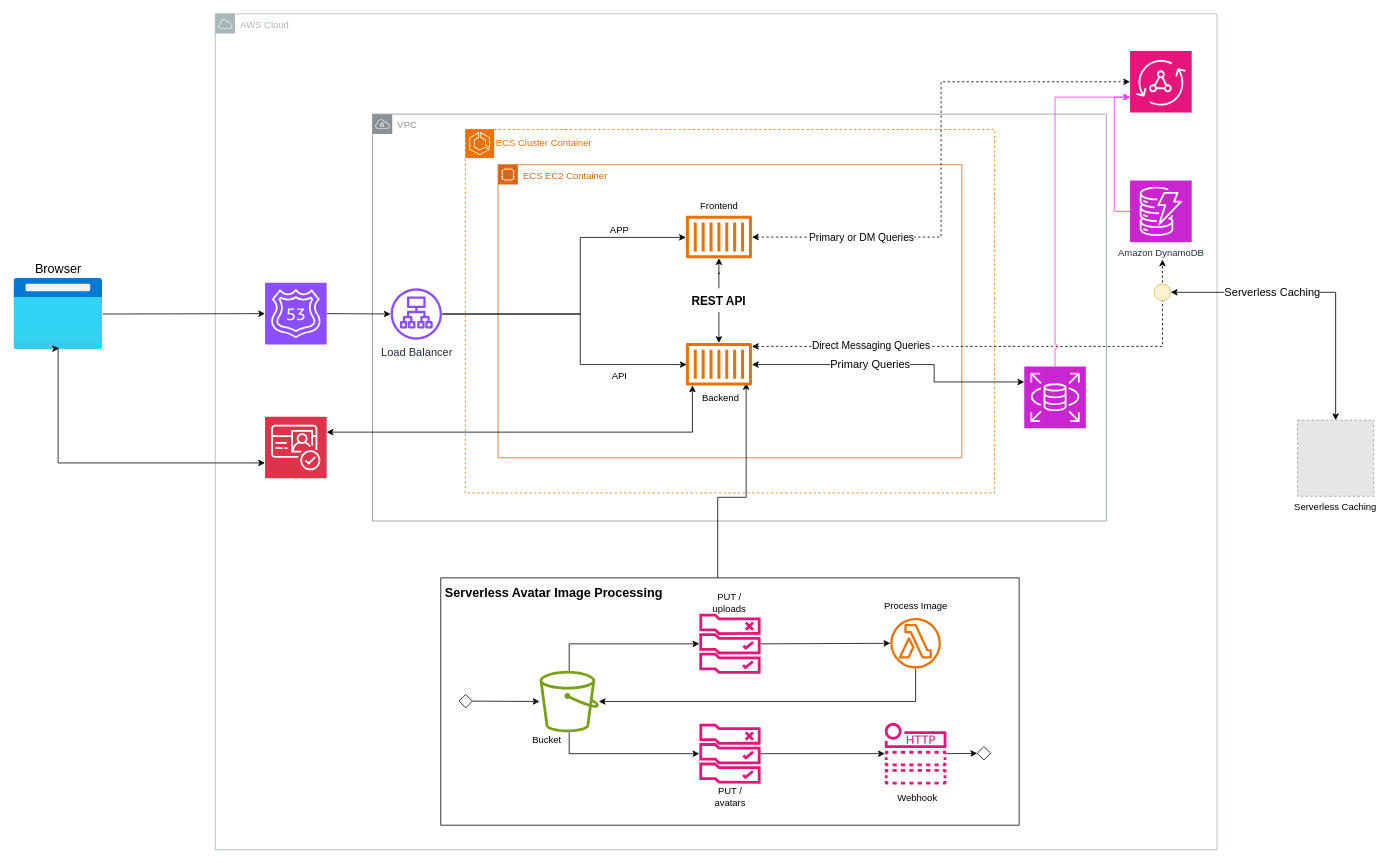
Image size: 1391x863. Some labels were removed from this diagram. Grey dashed boxes stand in for pictures. The shapes that lost their labels are listed below. From the top down, each one's centre as x and y in pixels, then its label:
point 1160,81: AWS AppSync
point 295,313: DNS
point 1054,397: Amazon RDS
point 295,447: Authentication
